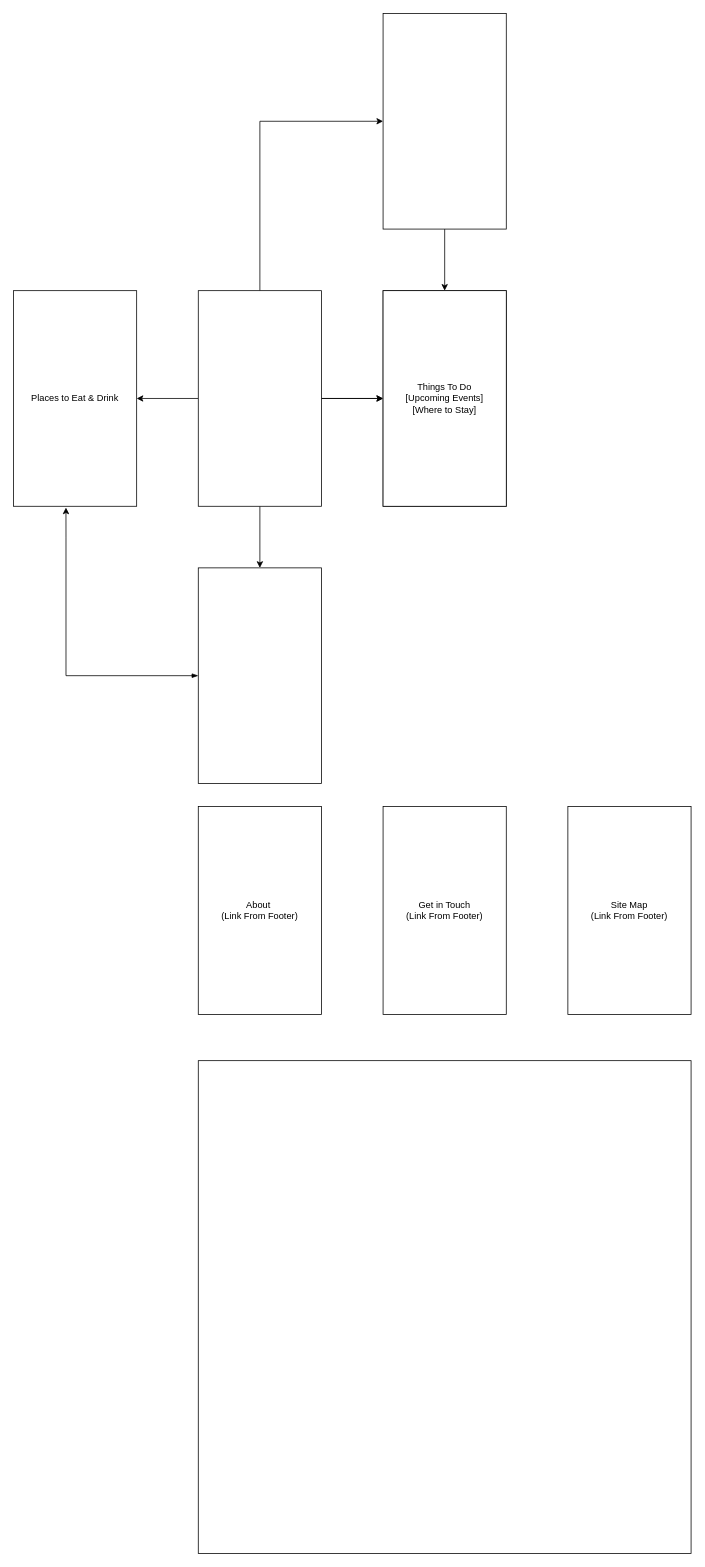
This 705x1567 diagram has some shape labels left out. The shapes that lost their labels are listed below. From the top down, each one's centre as x and y in pixels, then its label:
At (444,121): "Events Calendar".
At (259,398): "Home Page [Welcome to Peterborough] [Upcoming Events]".
At (259,675): "Where to Stay [Places to Eat & Drink]".
